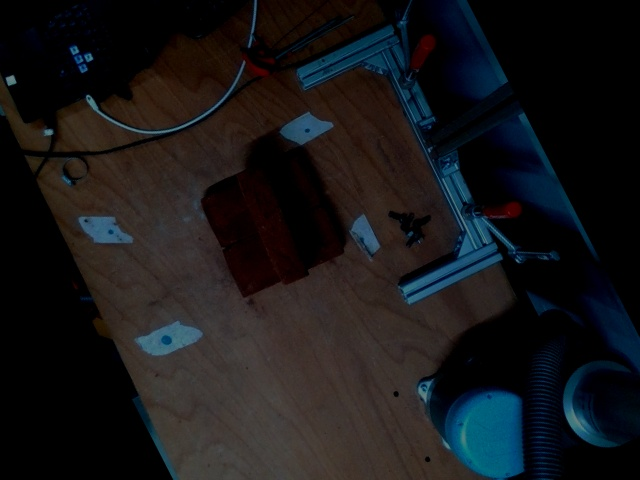brick-side: (236, 164, 307, 284)
